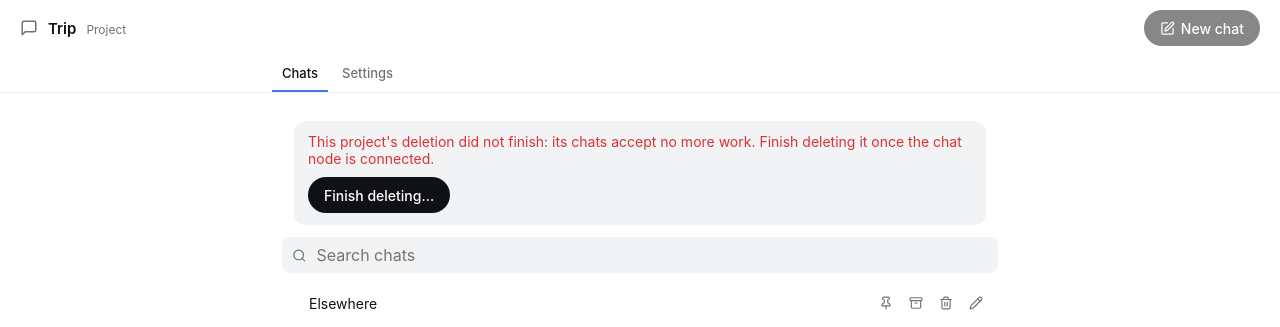
Test: WorkspacePage › offers to finish a deletion that did not finish, and nothing else
Expected: the button "Finish deleting…" is enabled, [308,177,450,213]
Expected: the button "New chat" is disabled, [1144,10,1260,46]
Click the tab "Settings" at coordinates (368, 74), box [332,56,403,92]
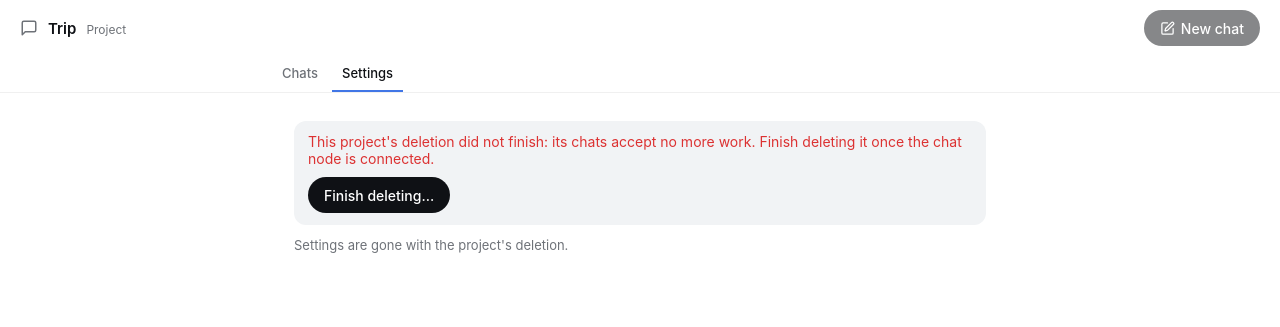
Result: the text "Settings are gone" is shown at [294,237,568,253]
